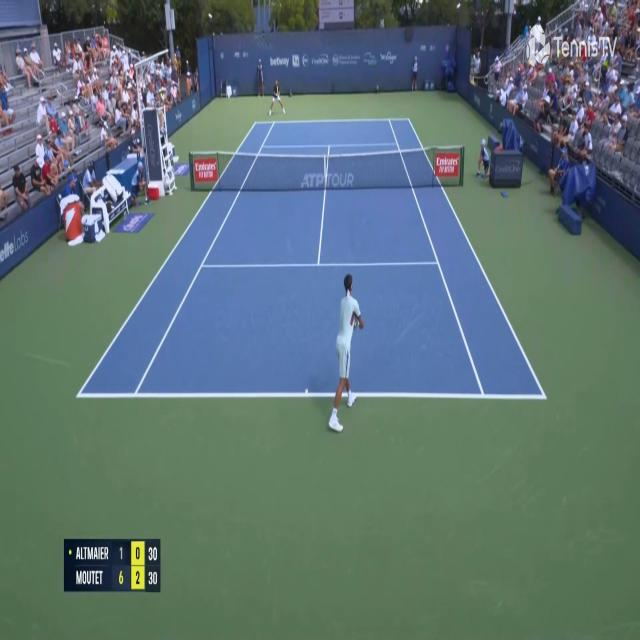tennis-player: (326, 267, 365, 438), (268, 79, 285, 117)
